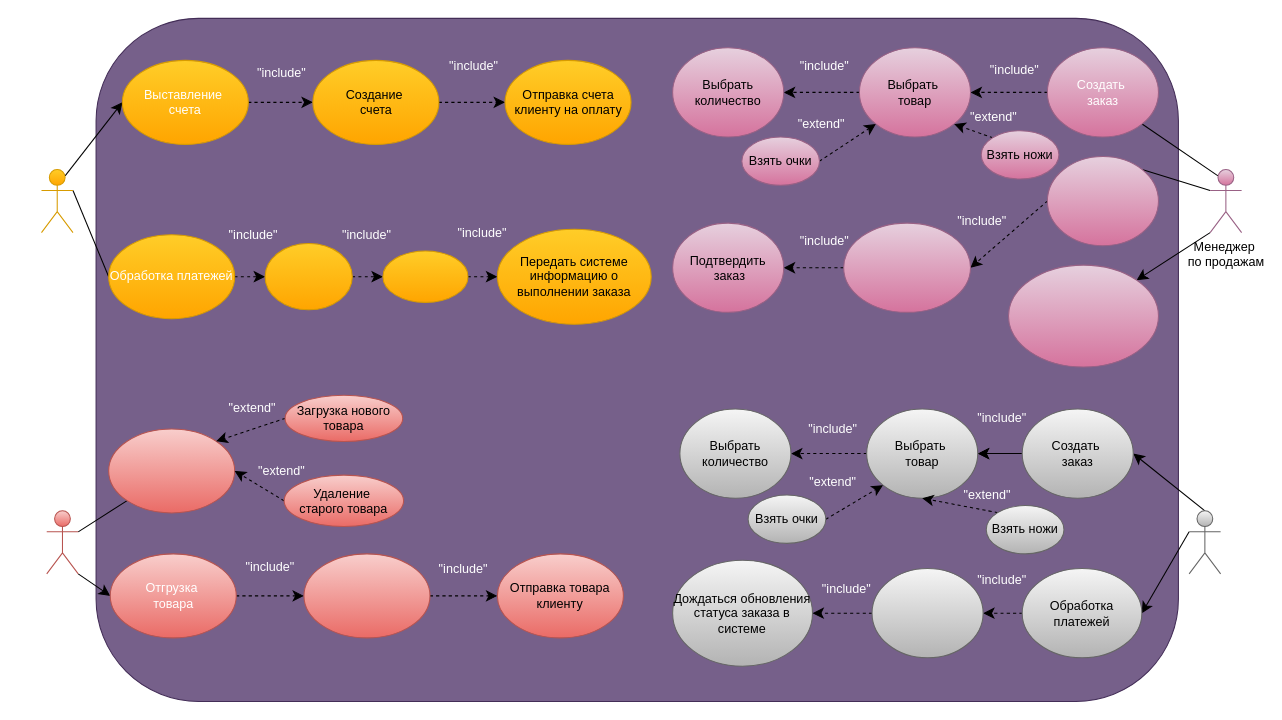
Some shapes in this 1282 by 720 pixel diagram are drawn without their labels. The centre of each missing label's shape, as x and y in pixels:
Выставить счёт: the point at 1082,315
Клиент: the point at 1204,542
Клиент производит оплату: the point at 308,276
Обработать заказ: the point at 1102,200
Обработка платежа: the point at 425,276
Подготавливание товара системой: the point at 366,595
Проверить доступность товаров в системе: the point at 907,267
Произвести оплату: the point at 927,613
Складской работник: the point at 62,542
Управление запасами: the point at 171,470
Финансовый менеджер: the point at 56,201
